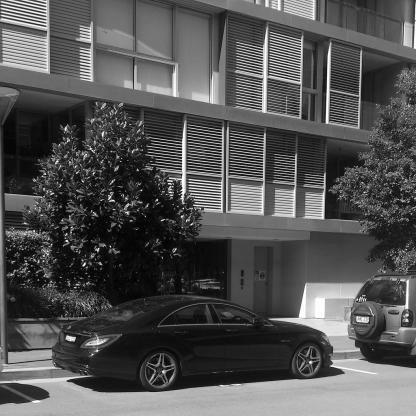car: (53, 282, 343, 406), (355, 265, 416, 394)
